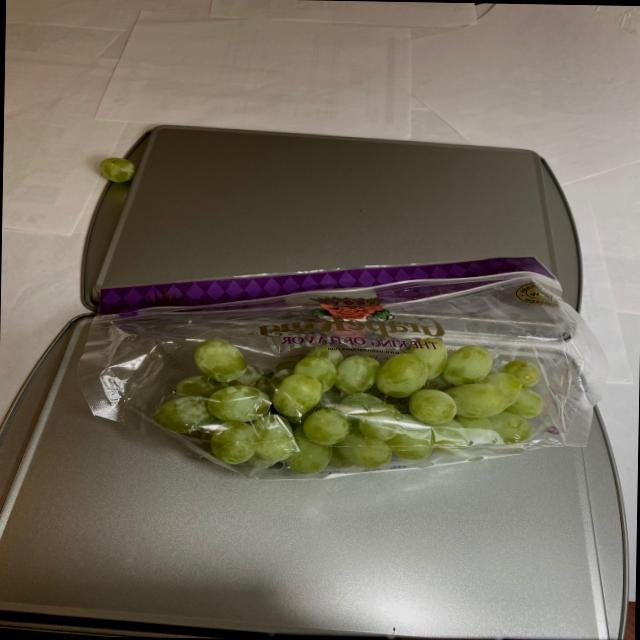grapes: (142, 334, 562, 478)
